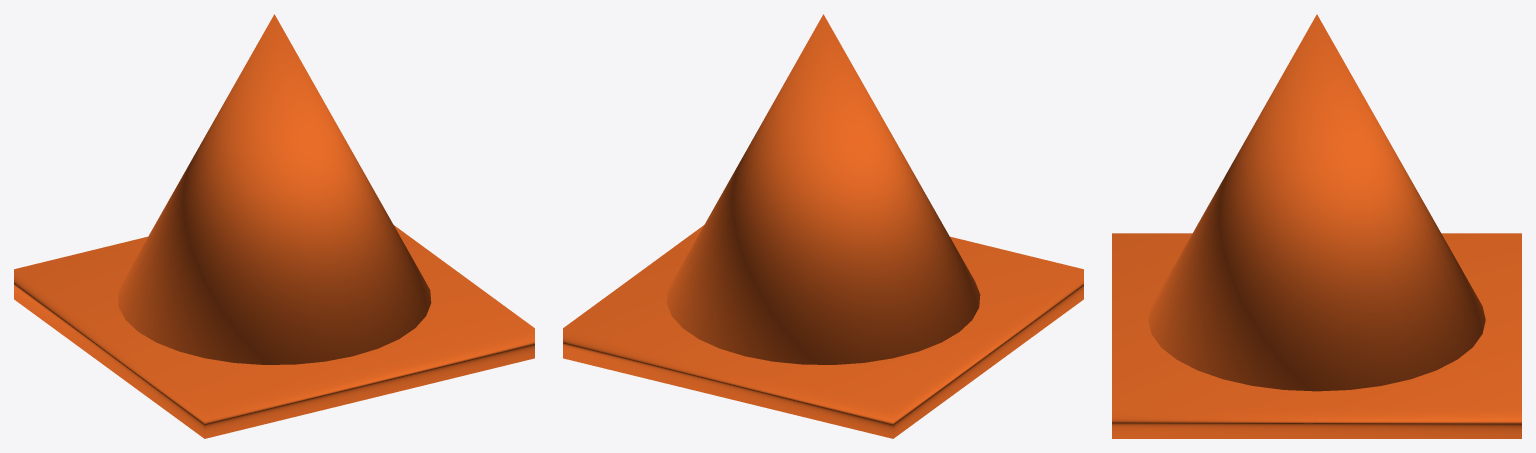
Rendered from ConeShell.fbx.
The picture shows the model from 3 angles, left to right: view 1: azimuth 30°, elevation 25°; view 2: azimuth 150°, elevation 25°; view 3: azimuth 270°, elevation 25°; orthographic projection. The views are drawn at different scales.
Visible parts, largest first — view 1: Cone.001, Cube; view 2: Cone.001, Cube; view 3: Cone.001, Cube.
Part boxes in pixels (bbox=[...]): Cone.001: bbox=[117, 14, 431, 364]; Cube: bbox=[14, 225, 534, 438]; Cone.001: bbox=[666, 14, 980, 364]; Cube: bbox=[563, 225, 1083, 438]; Cone.001: bbox=[1148, 14, 1485, 391]; Cube: bbox=[1112, 233, 1521, 438].
Size of the model in its own units: 200 by 182 by 200.
